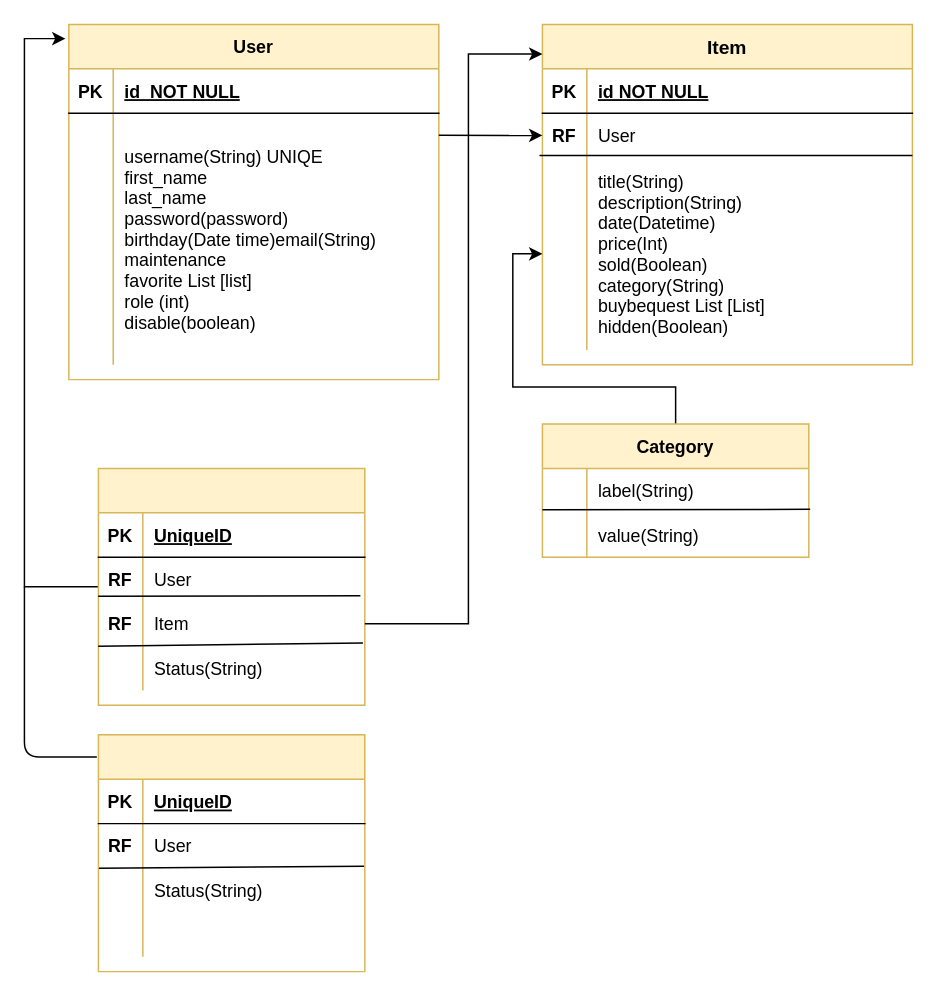
Image size: 937x996. Some labels were removed from this diagram. Here are the shapes that lost their labels. From the top down, the box of each, then its label:
(97, 467, 365, 705): Buy Request
(97, 733, 365, 972): Upgrade Request
